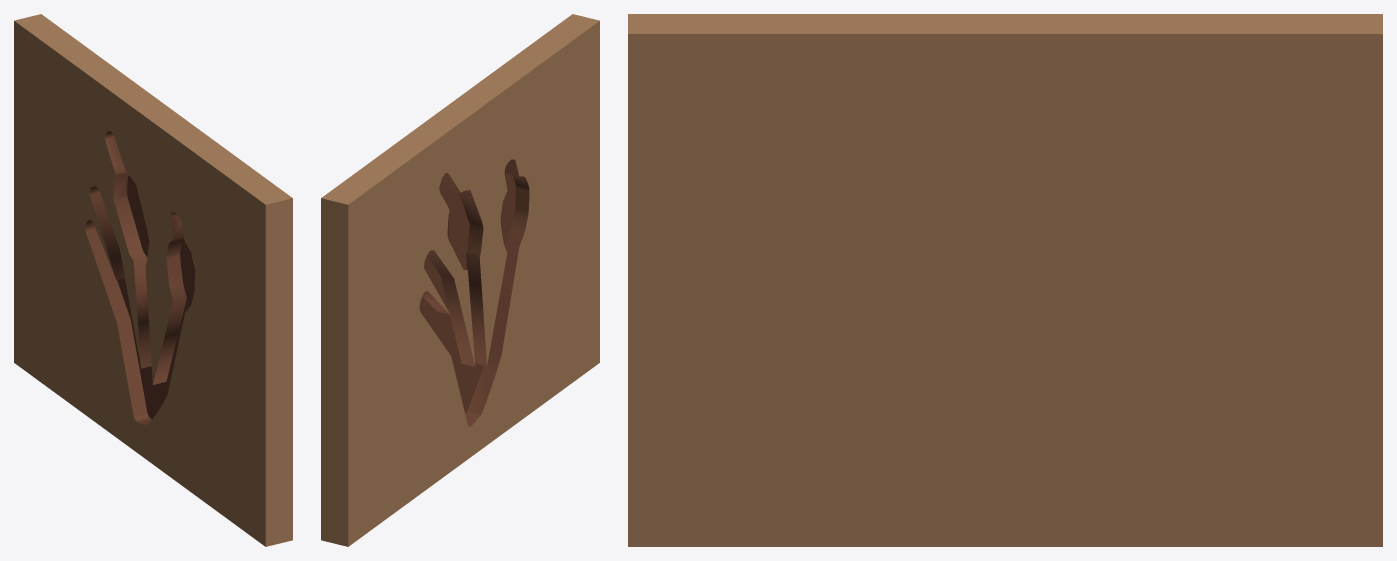
Rendered from SignMarsh.glb.
3 views of the same model, side by side, from view 1: azimuth 30°, elevation 25°; view 2: azimuth 150°, elevation 25°; view 3: azimuth 270°, elevation 25° (orthographic). The views are drawn at different scales.
Visible parts, largest first — view 1: Cube; view 2: Cube; view 3: Cube.
Part boxes in pixels (x1=…): Cube: x1=14, y1=14, x2=292, y2=546; Cube: x1=321, y1=14, x2=599, y2=546; Cube: x1=628, y1=14, x2=1382, y2=546.
Bounding box in the file's own units: 0.1 × 1.2 × 1.6.
